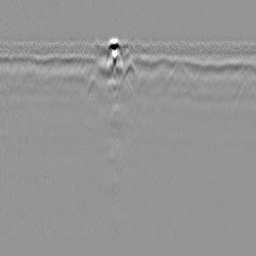cavity: (122, 59, 138, 89)
